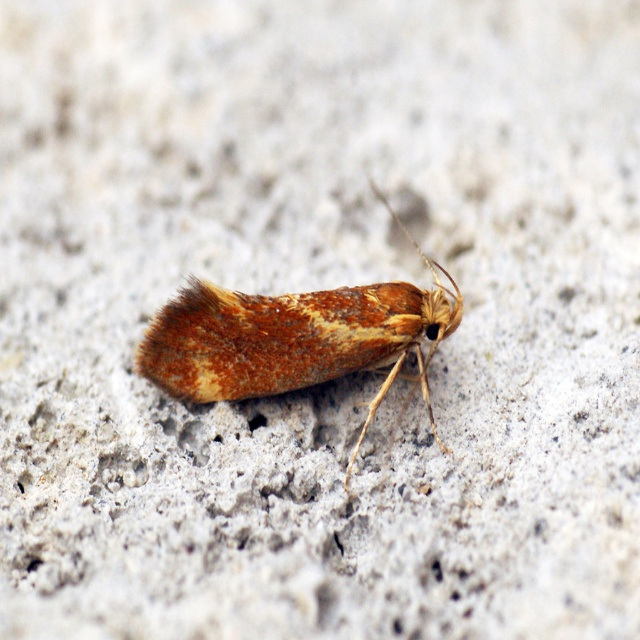Moths and butterflies: (135, 165, 463, 507)
